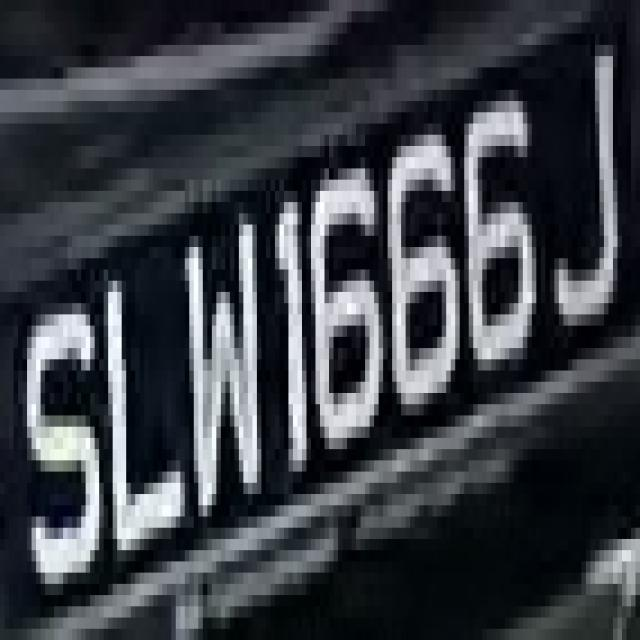1: (262, 157, 316, 517)
6: (456, 68, 546, 404), (379, 123, 464, 438), (302, 134, 379, 472)
J: (550, 22, 622, 370)
L: (90, 258, 189, 562)
S: (13, 258, 104, 606)
W: (180, 214, 270, 516)
